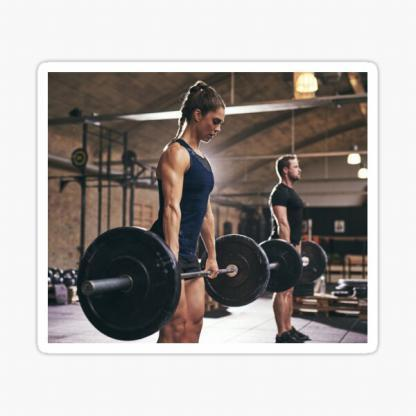barbell: (78, 228, 268, 342), (257, 238, 328, 293)
